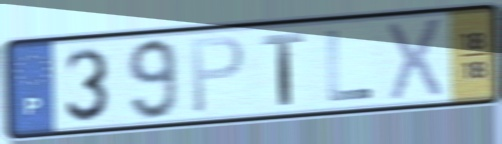3: (62, 45, 112, 124)
9: (124, 35, 181, 123)
L: (323, 28, 375, 105)
P: (189, 33, 248, 117)
T: (259, 30, 307, 108)
X: (384, 15, 445, 103)
